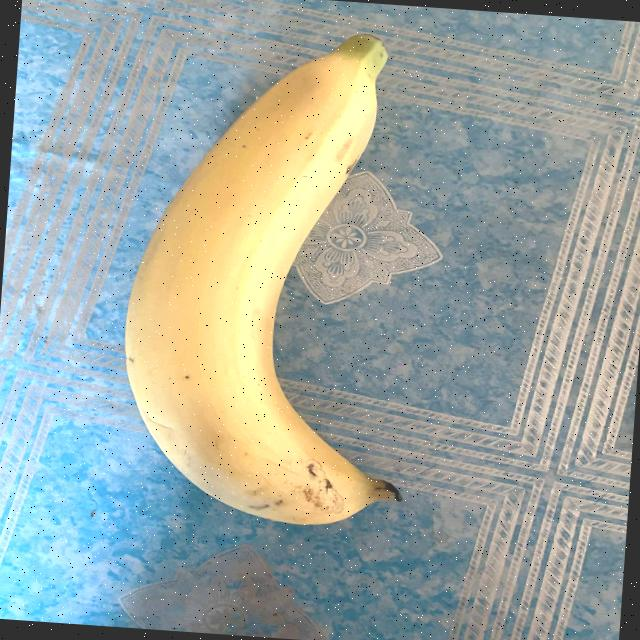Ripe: (39, 4, 550, 588)
